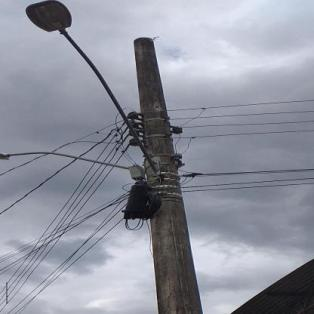Poste: (126, 33, 282, 314)
